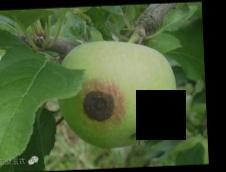rotten apple: (57, 38, 174, 146)
